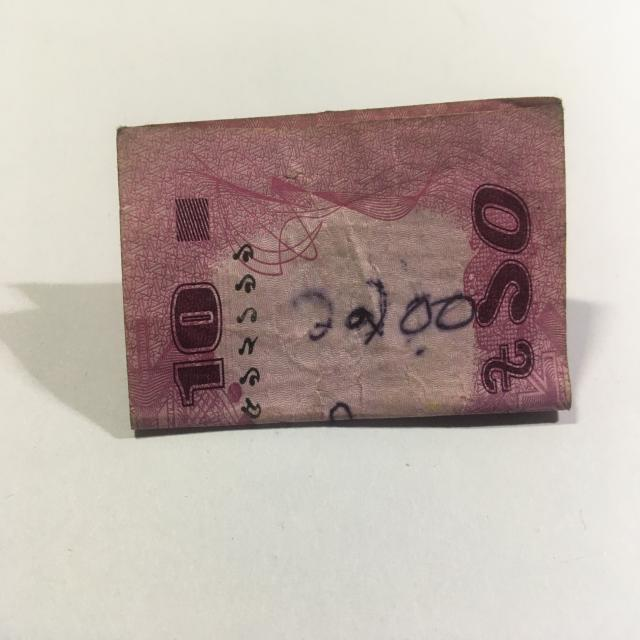Taka: (109, 114, 585, 432)
